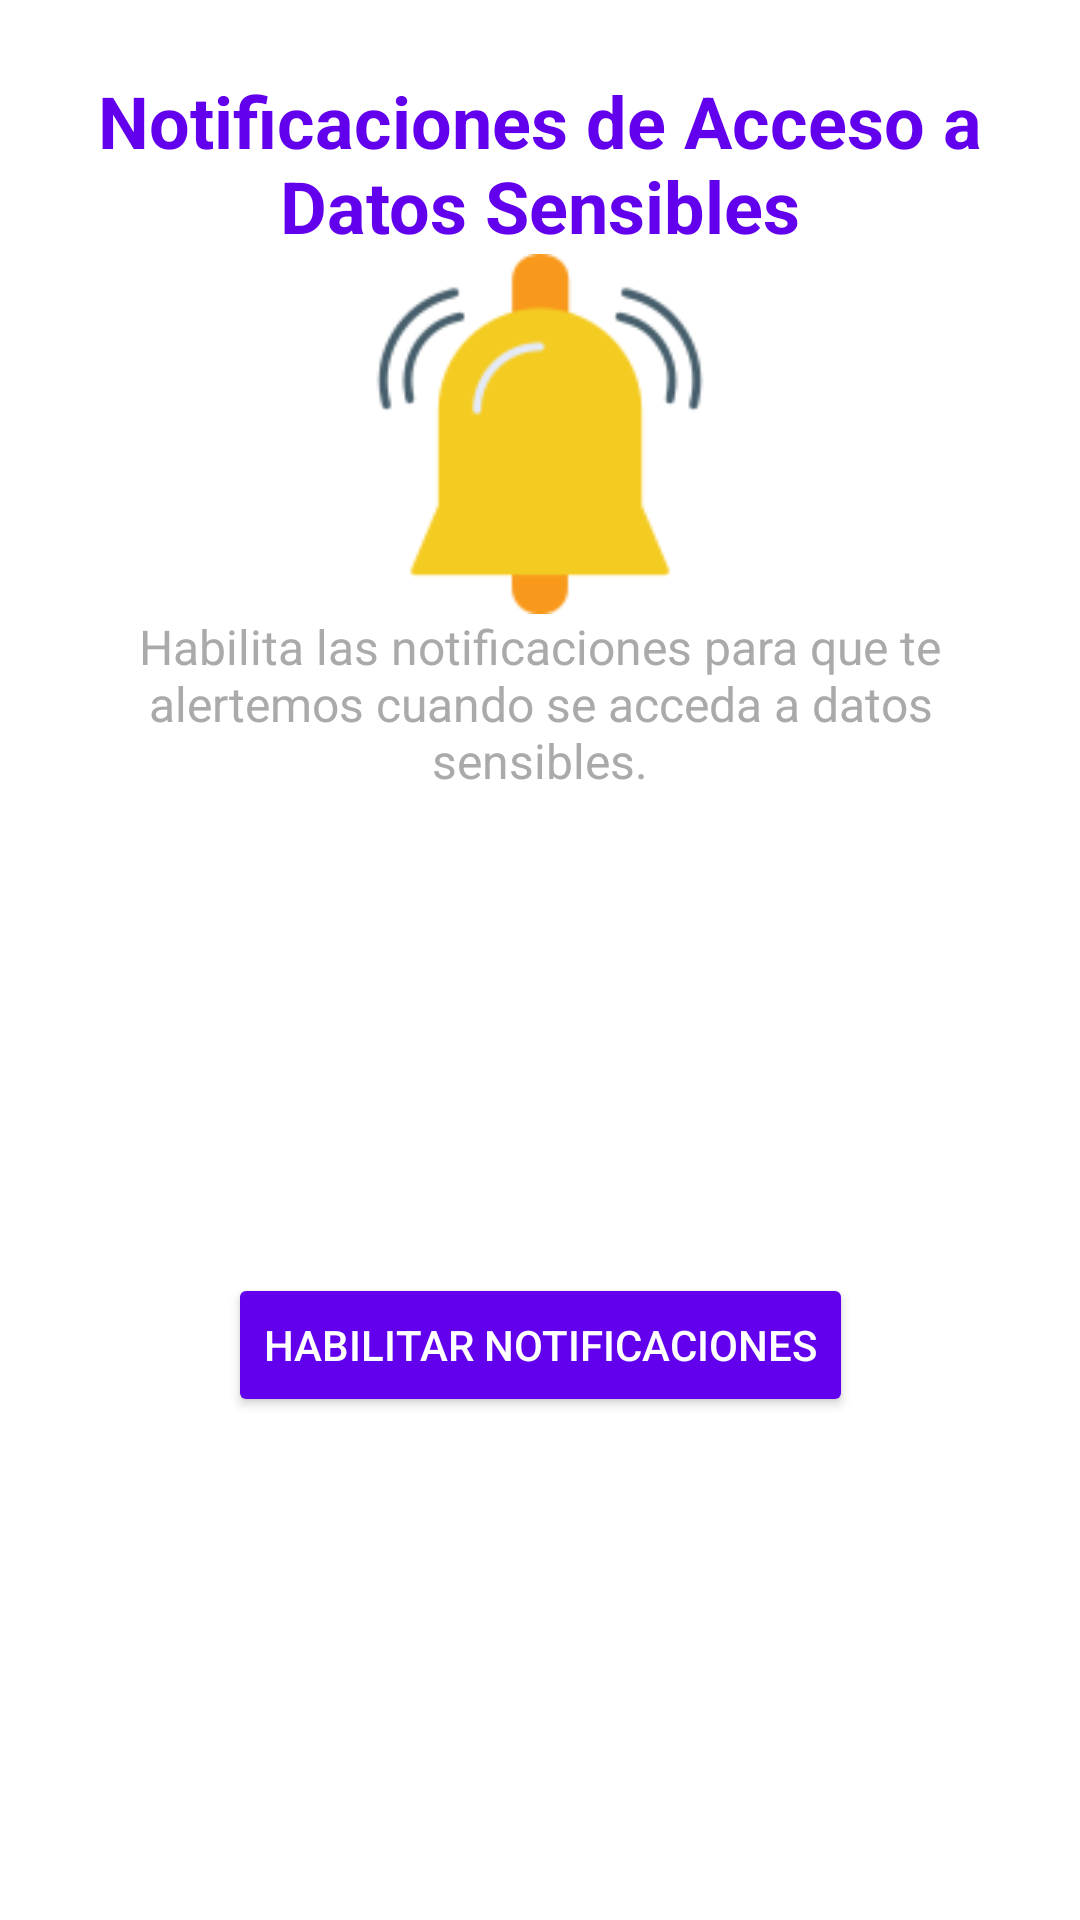

Screen size 1080px x 1920px. Icon name, then its center in pixels as [x,y]:
Icono de Notificación de Acceso a Datos: [540,434]
